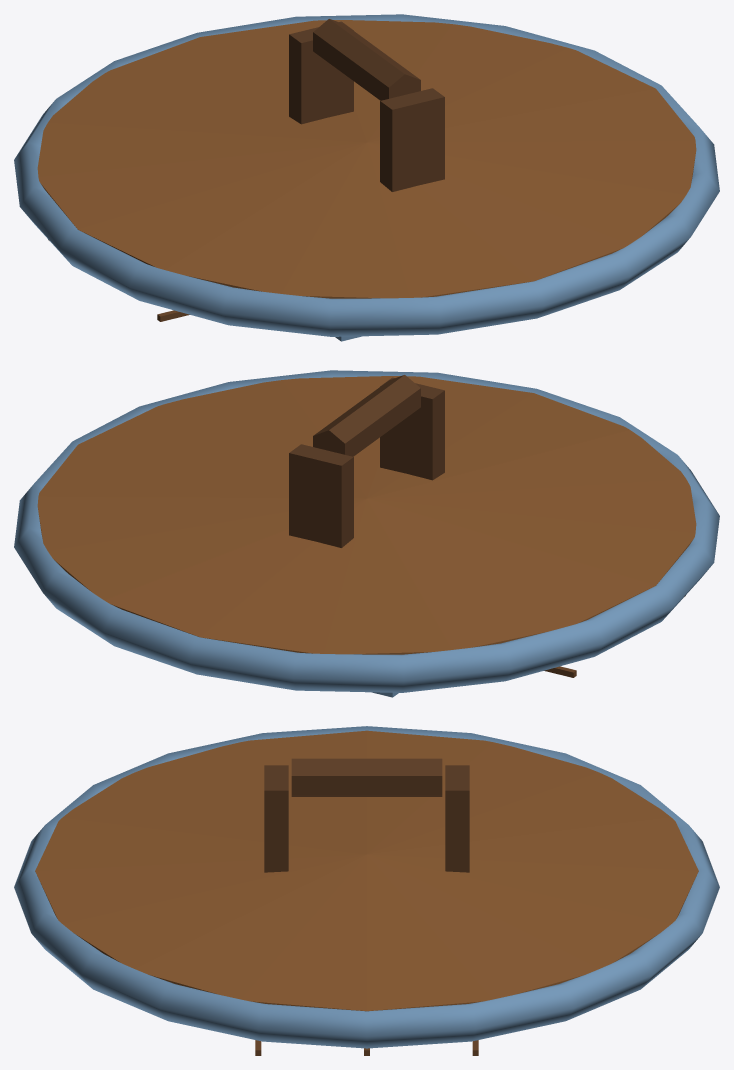
The model's file is Weapon_Shield_Titanium.fbx.
The picture shows the model from 3 angles, top to bottom: view 1: azimuth 30°, elevation 25°; view 2: azimuth 150°, elevation 25°; view 3: azimuth 270°, elevation 25°; orthographic projection.
Parts seen in each view (by area): view 1: Weapon_Shield_Titanium; view 2: Weapon_Shield_Titanium; view 3: Weapon_Shield_Titanium.
Boxes of the visible parts, box(x1,y1,x2,y2) form: Weapon_Shield_Titanium: box(14, 14, 719, 341); Weapon_Shield_Titanium: box(14, 370, 719, 697); Weapon_Shield_Titanium: box(14, 726, 719, 1055).
Bounding box in the file's own units: 0.234 × 0.0763 × 0.234.
